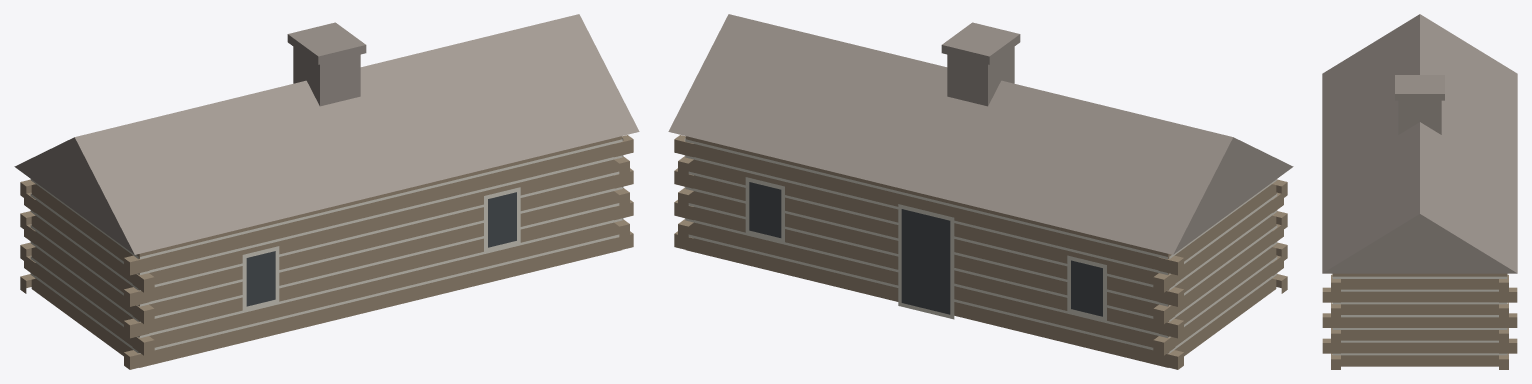
File: fort_dearborn_guard_house__log_1816.glb
The picture shows the model from 3 angles, left to right: view 1: azimuth 30°, elevation 25°; view 2: azimuth 150°, elevation 25°; view 3: azimuth 270°, elevation 25°; orthographic projection. The views are drawn at different scales.
Visible parts, largest first — view 1: fort_dearborn_guard_house__log_1816; view 2: fort_dearborn_guard_house__log_1816; view 3: fort_dearborn_guard_house__log_1816.
Boxes of the visible parts, x1,y1,x2,y2 form: fort_dearborn_guard_house__log_1816: (14, 14, 639, 369); fort_dearborn_guard_house__log_1816: (668, 14, 1293, 369); fort_dearborn_guard_house__log_1816: (1322, 14, 1517, 369).
Size of the model in its own units: 11.41 by 5.04 by 4.72.
